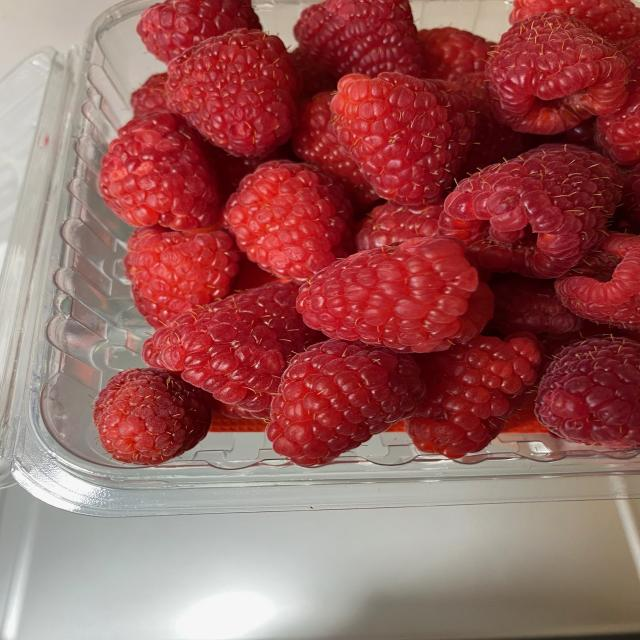raspberries: (69, 4, 620, 474)
